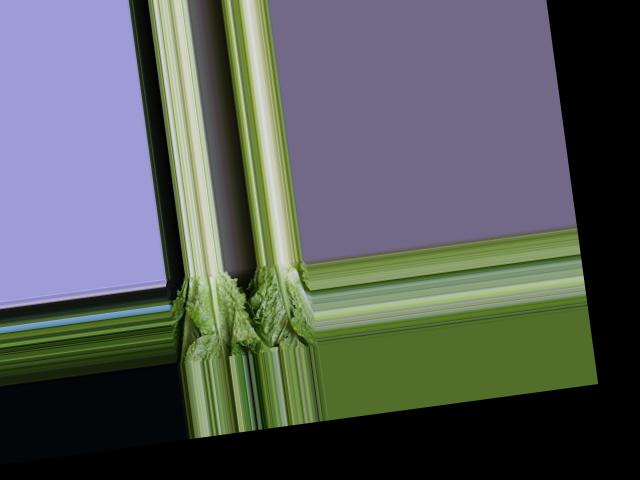lettuce: (247, 259, 313, 348)
